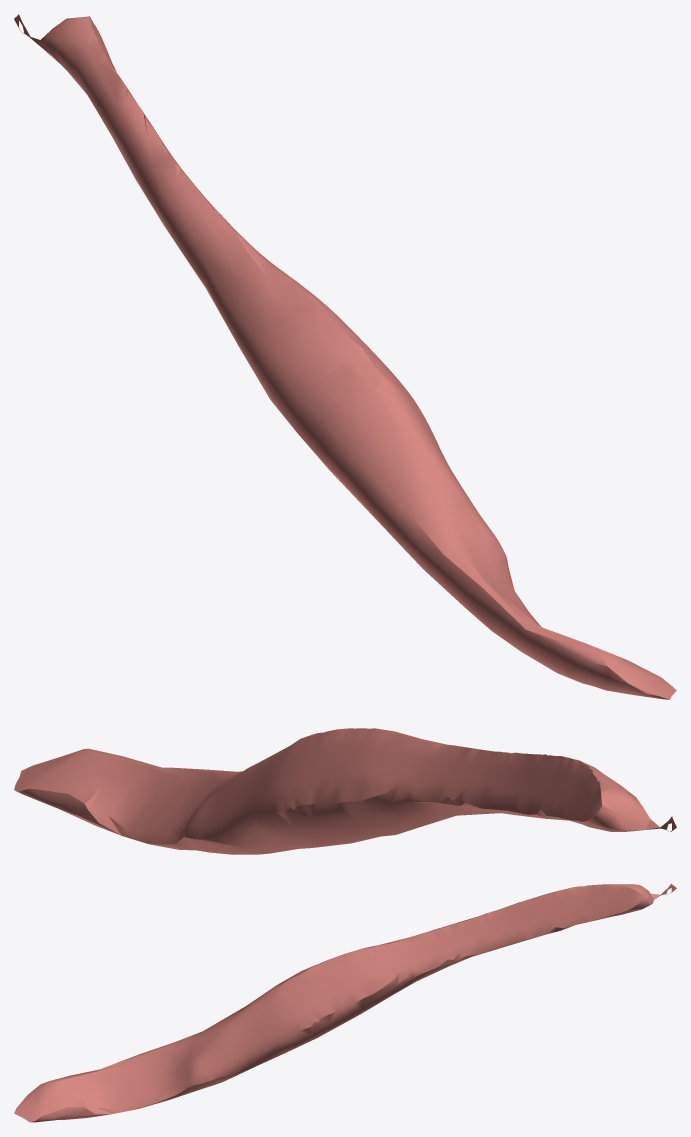
The model's file is fma45972_mm1742.glb.
3 views of the same model, one above another, from view 1: azimuth 30°, elevation 25°; view 2: azimuth 210°, elevation 25°; view 3: azimuth 270°, elevation 25° (orthographic). The views are drawn at different scales.
Parts seen in each view (by area): view 1: FMA45972_MM1742; view 2: FMA45972_MM1742; view 3: FMA45972_MM1742.
Boxes of the visible parts, x1,y1,x2,y2 form: FMA45972_MM1742: (14, 14, 676, 699); FMA45972_MM1742: (14, 728, 676, 854); FMA45972_MM1742: (14, 883, 676, 1122).
Bounding box in the file's own units: 0.0159 × 0.0344 × 0.0966.
